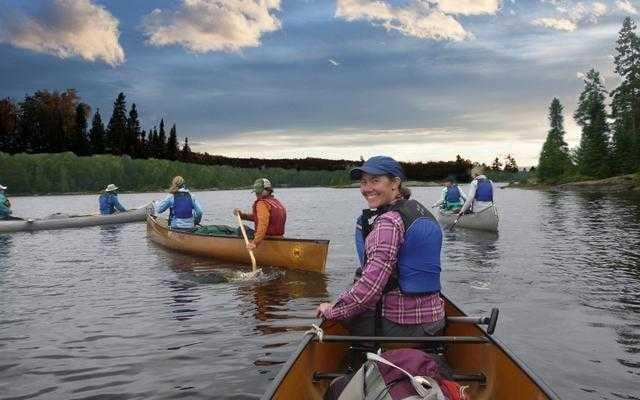kayak: (263, 298, 557, 398), (145, 214, 331, 272), (0, 204, 153, 231), (431, 198, 501, 232)
